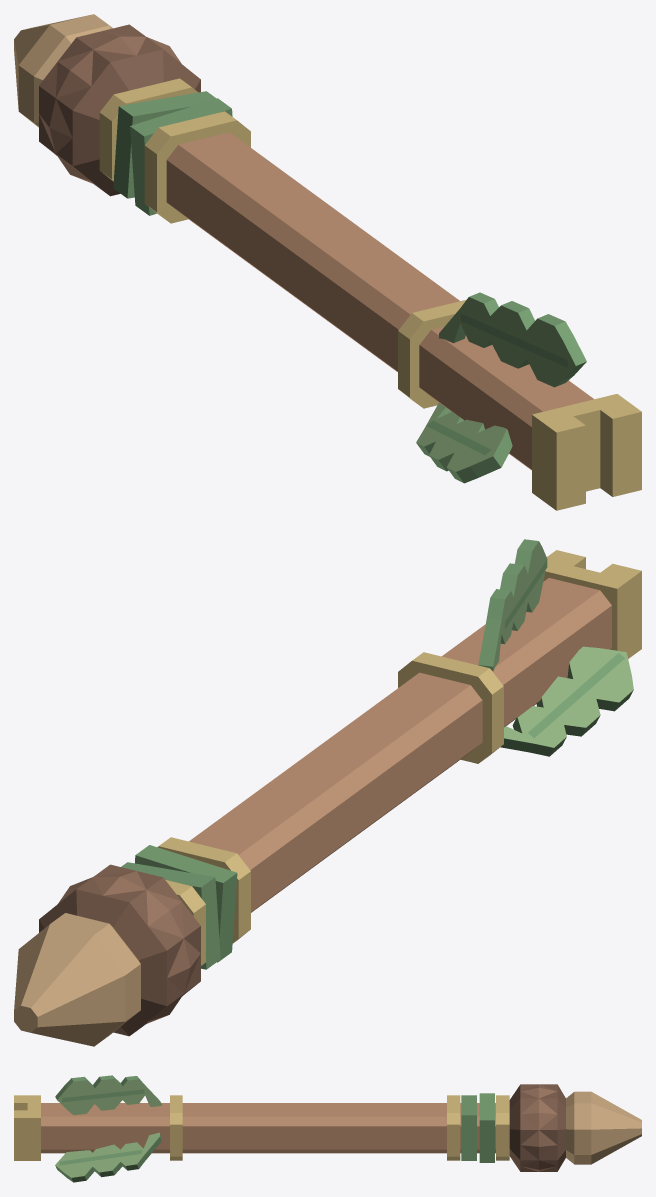
The model's file is acorn_arrow_roblox.glb.
The picture shows the model from 3 angles, top to bottom: view 1: azimuth 30°, elevation 25°; view 2: azimuth 150°, elevation 25°; view 3: azimuth 270°, elevation 25°; orthographic projection. The views are drawn at different scales.
Visible parts, largest first — view 1: Arrow; view 2: Arrow; view 3: Arrow.
Boxes of the visible parts, x1,y1,x2,y2 form: Arrow: [14, 14, 641, 510]; Arrow: [14, 539, 641, 1046]; Arrow: [14, 1075, 641, 1182].
Bounding box in the file's own units: 0.3178 × 0.302 × 1.86.
